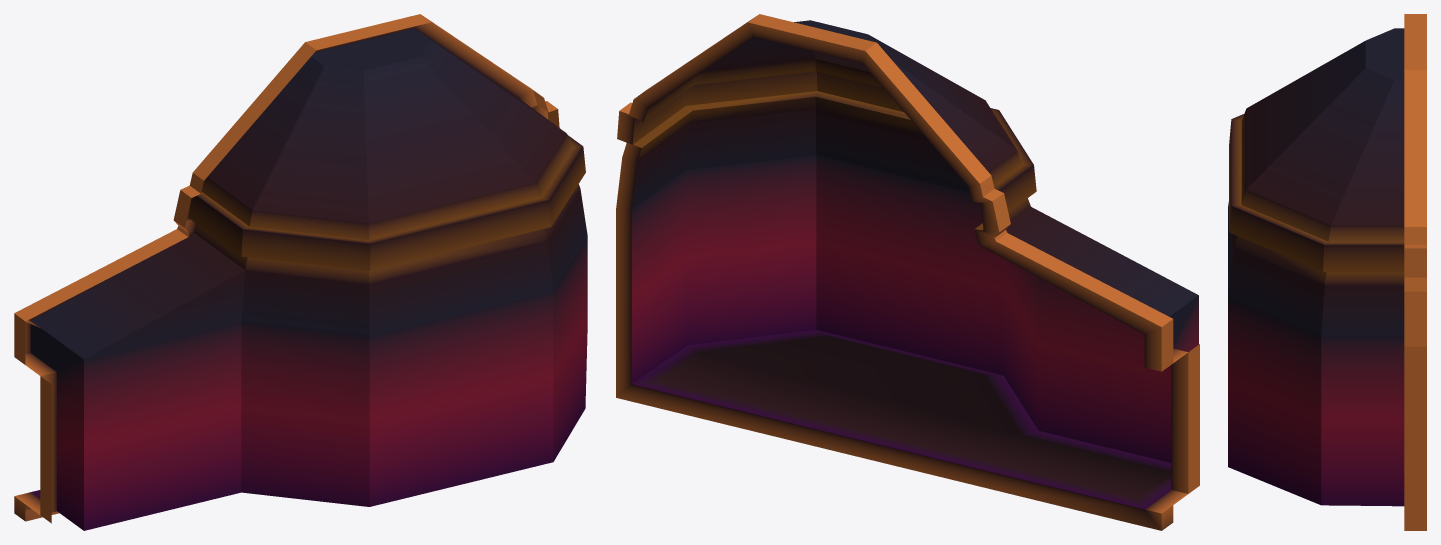
The model's file is Mercona_hut_1_interior.obj.
The picture shows the model from 3 angles, left to right: view 1: azimuth 30°, elevation 25°; view 2: azimuth 150°, elevation 25°; view 3: azimuth 270°, elevation 25°; orthographic projection. The views are drawn at different scales.
Parts seen in each view (by area): view 1: Mercona_hut_1_interior, Mercona_hut_3_interior.002; view 2: Mercona_hut_1_interior, Mercona_hut_3_interior.002; view 3: Mercona_hut_1_interior, Mercona_hut_3_interior.002.
Part boxes in pixels (x1,y1,x2,y2): Mercona_hut_1_interior: [31, 28, 587, 530]; Mercona_hut_3_interior.002: [14, 14, 559, 523]; Mercona_hut_1_interior: [631, 20, 1198, 509]; Mercona_hut_3_interior.002: [616, 14, 1199, 530]; Mercona_hut_1_interior: [1228, 28, 1404, 506]; Mercona_hut_3_interior.002: [1404, 14, 1426, 530].
Bounding box in the file's own units: 12.15 × 8.67 × 3.93.
